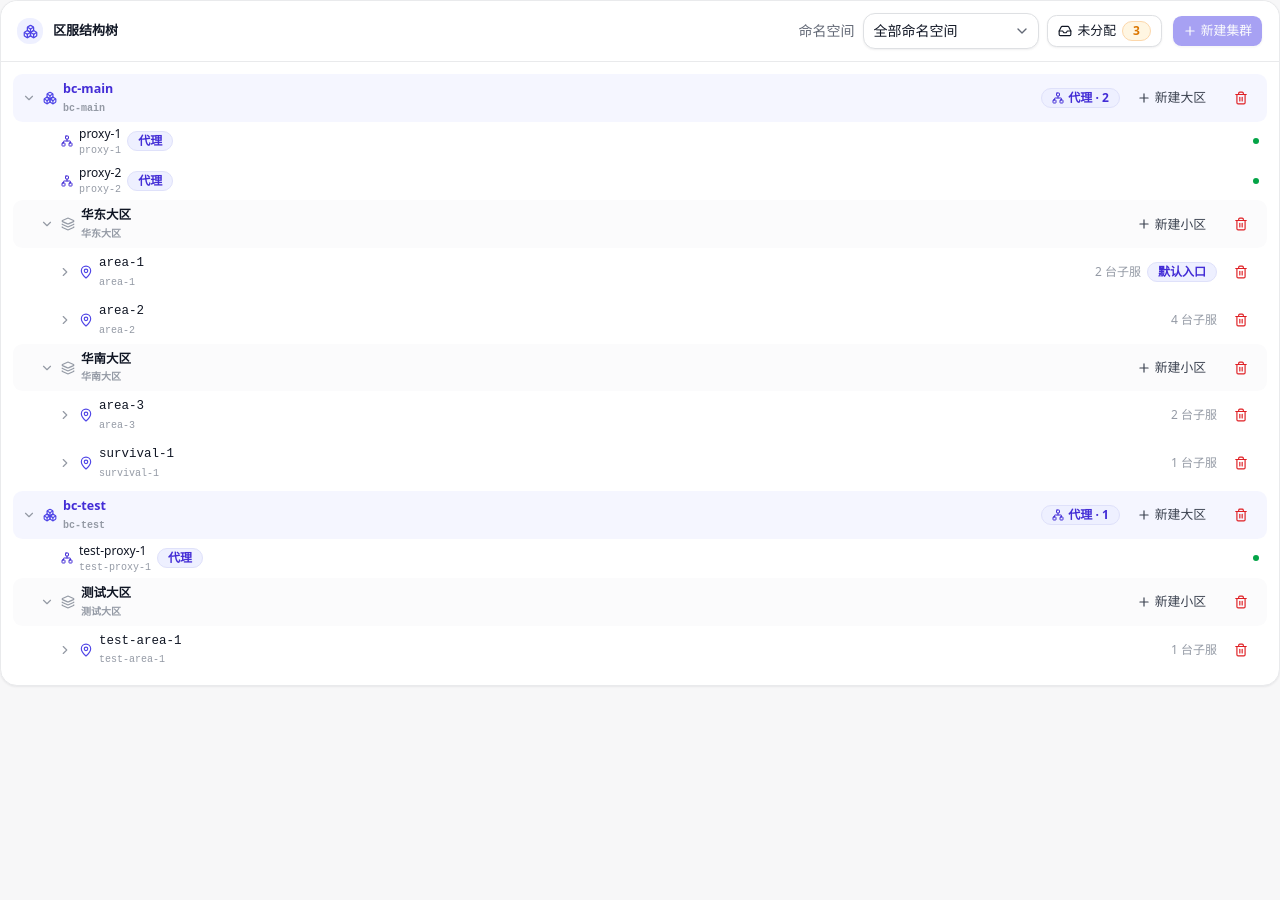
Test case: /zones 区服分配页 › 目标选择器树搜索按名称过滤，命中项可见、非命中项隐藏
Click the button "未分配 3".
click(1104, 31)  # box [1046,15,1162,47]
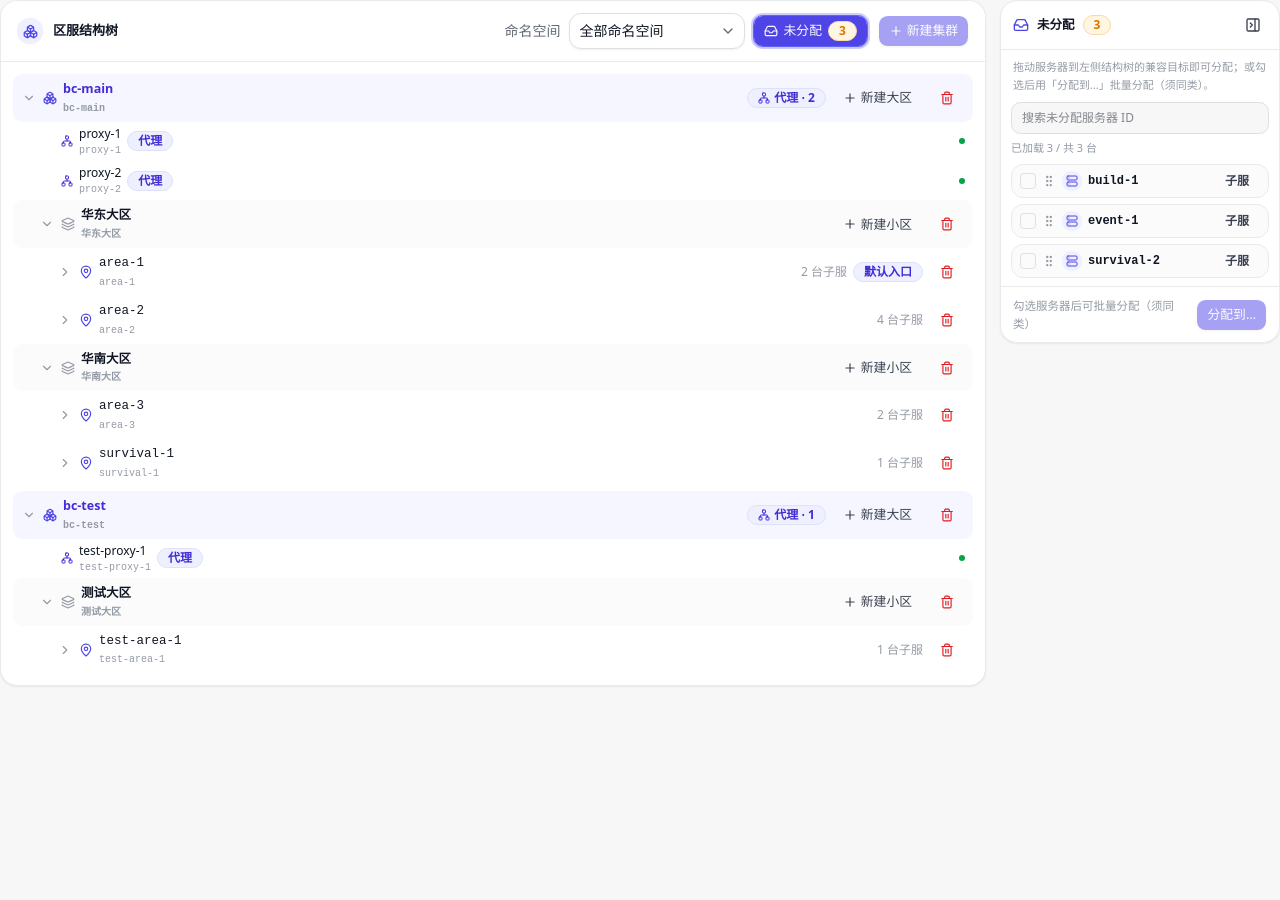
Click the checkbox named "选择 build-1".
click(1028, 181)  # box [1020,173,1036,189]
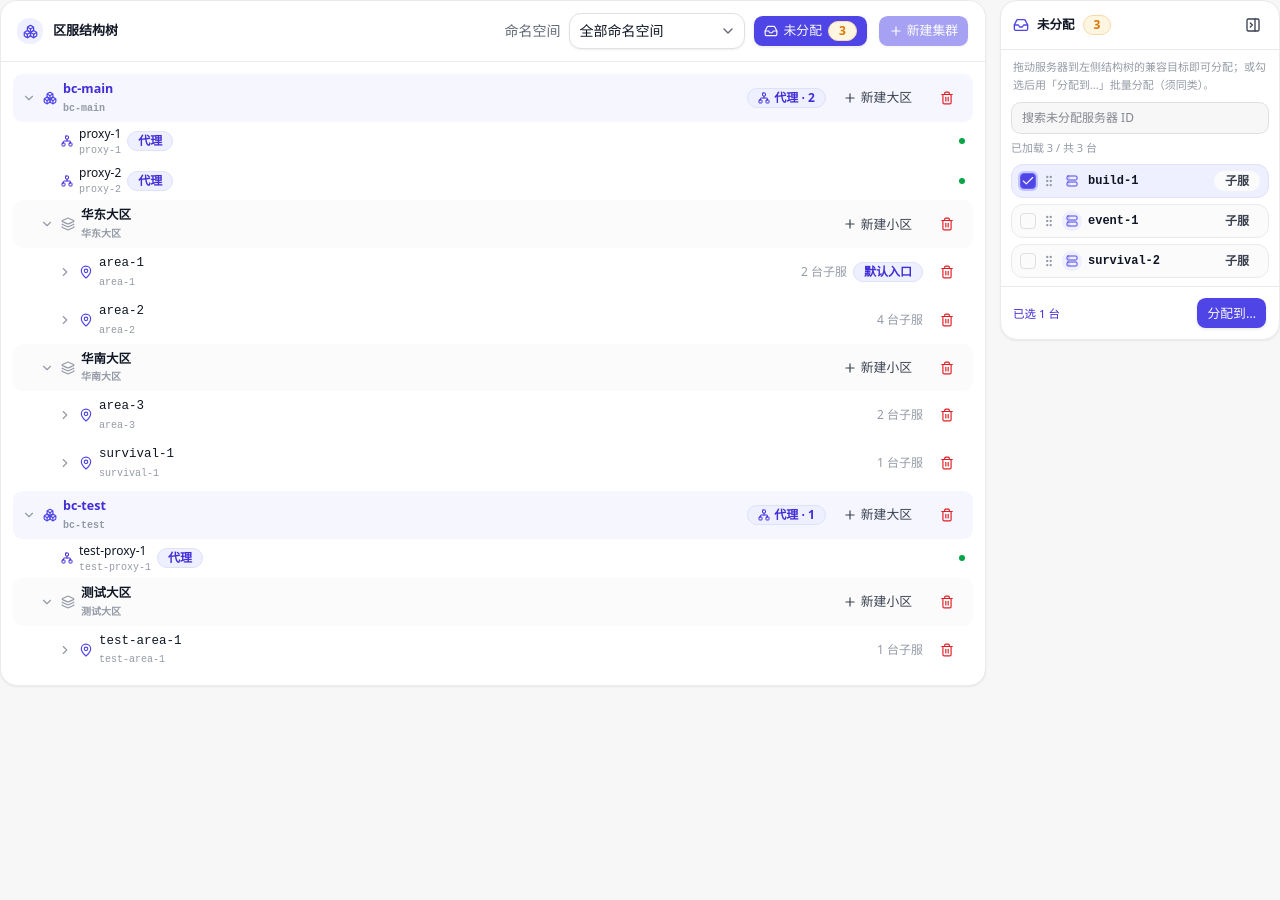
Click the button "分配到…".
click(1232, 313)  # box [1196,297,1267,329]
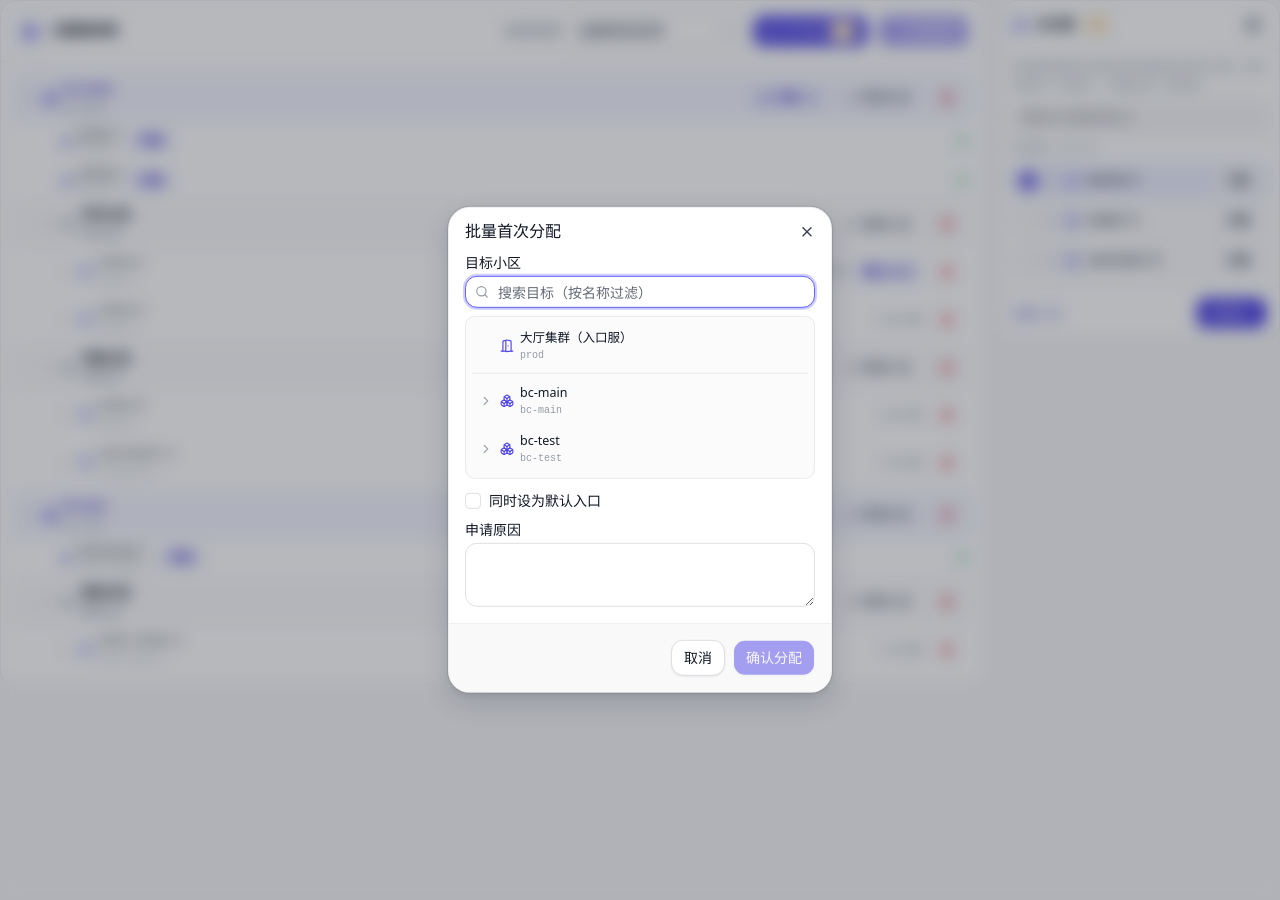
# 搜索一个不存在的名称 → 空匹配提示
Type "zzz-none" into the field labelled "搜索目标（按名称过滤）".
click(640, 292); type("zzz-none")  # box [465,276,815,308]
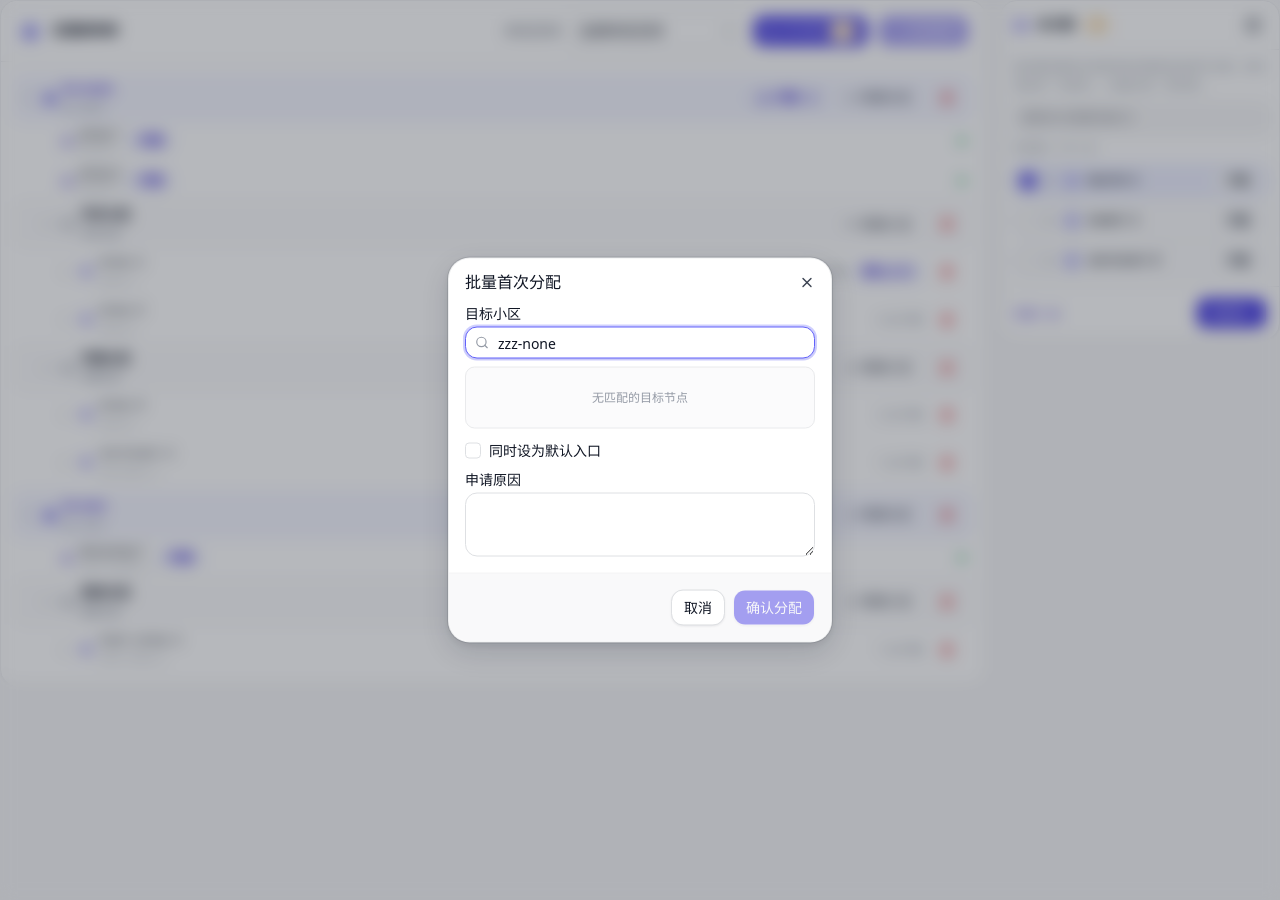
Result: the text "无匹配的目标节点" is shown at [592,388,688,406]
# 改搜 area-1 → 命中叶出现（锚定开头，避免误匹配 test-area-1）
Clear the field named "搜索目标（按名称过滤）" at (640, 342), box [465,326,815,358]
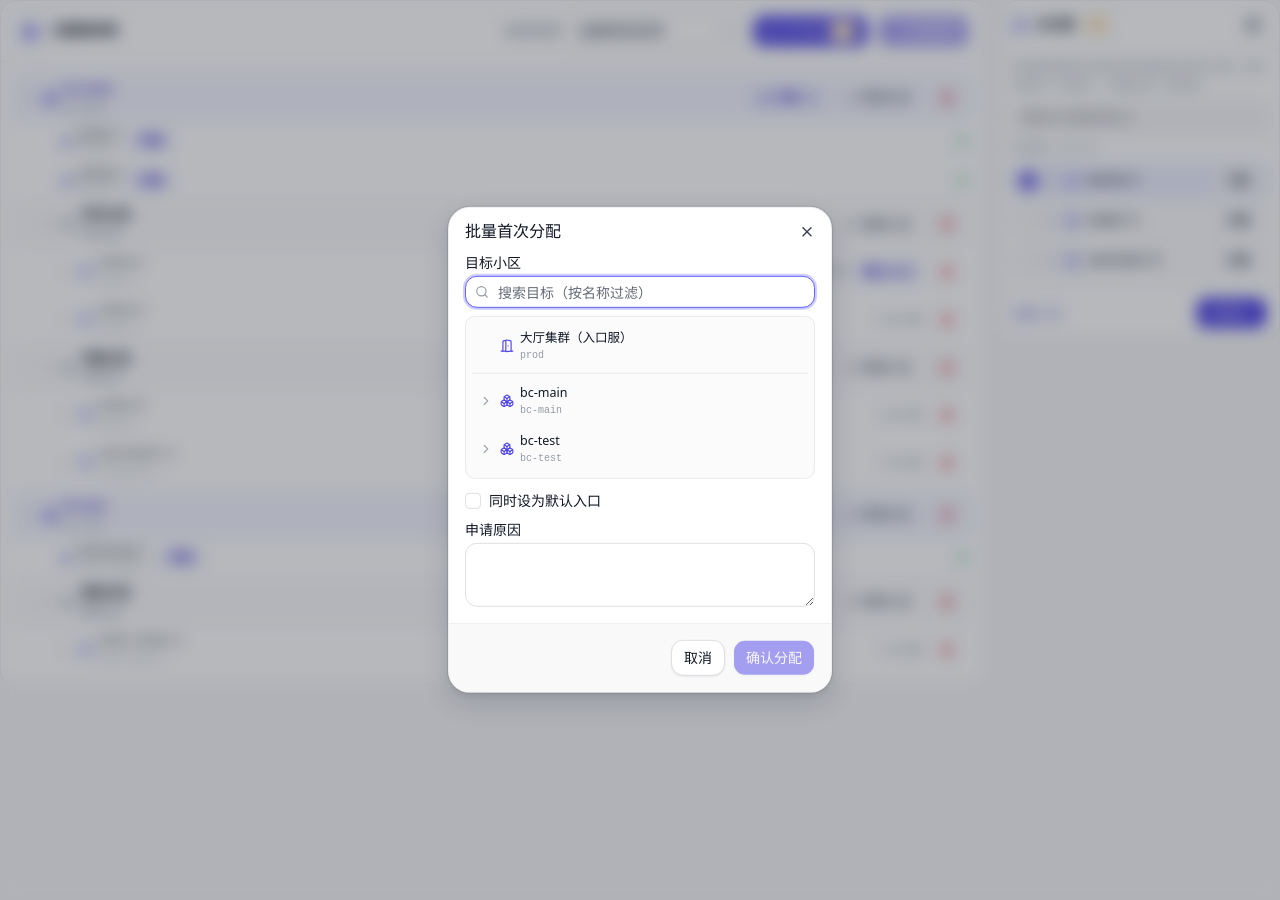
Type "area-1" into the field labelled "搜索目标（按名称过滤）".
click(640, 292); type("area-1")  # box [465,276,815,308]
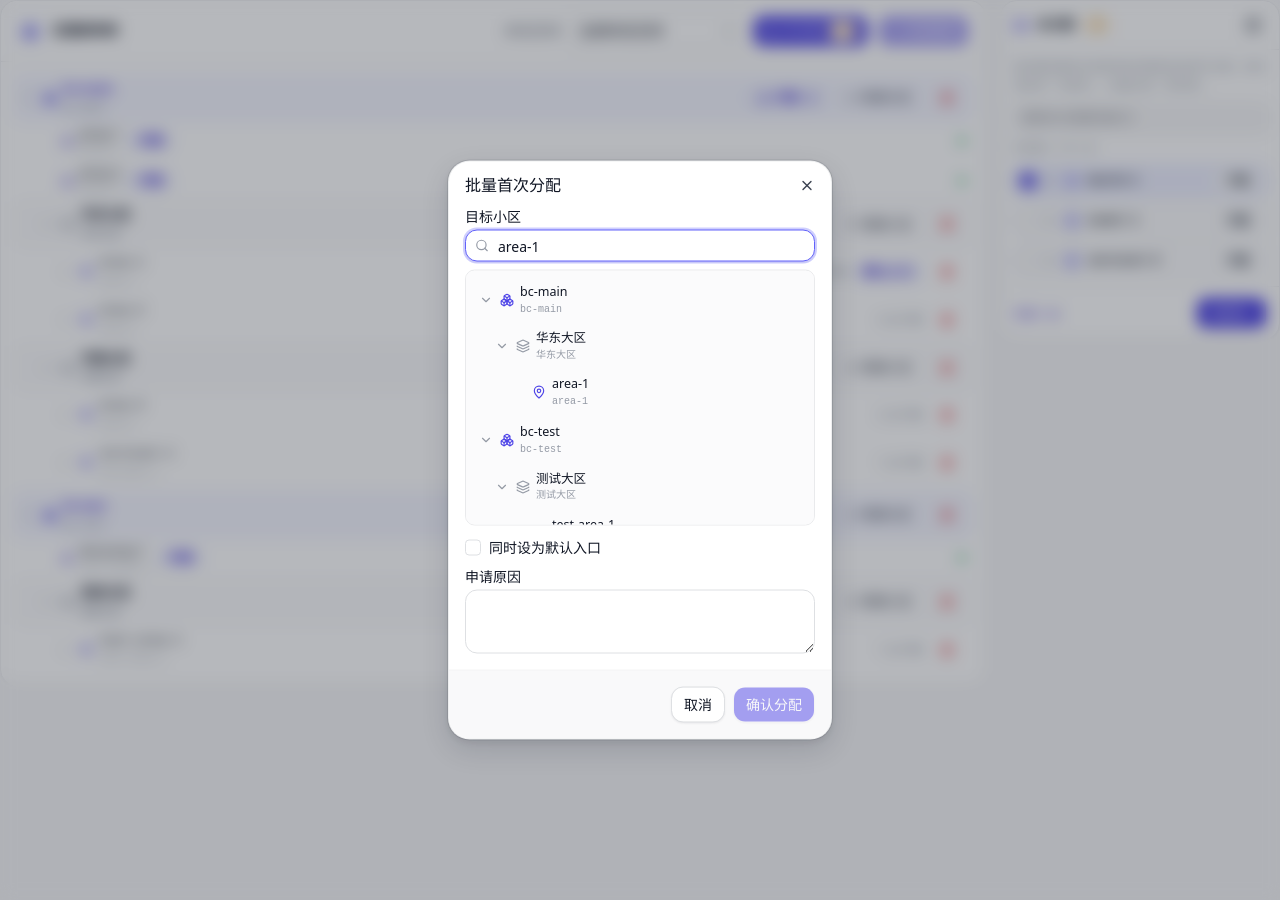
Result: the list item "area-1 area-1" is shown at [472,369,808,415]
